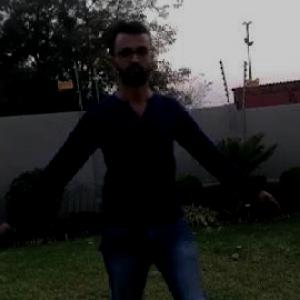land: (8, 59, 242, 299)
